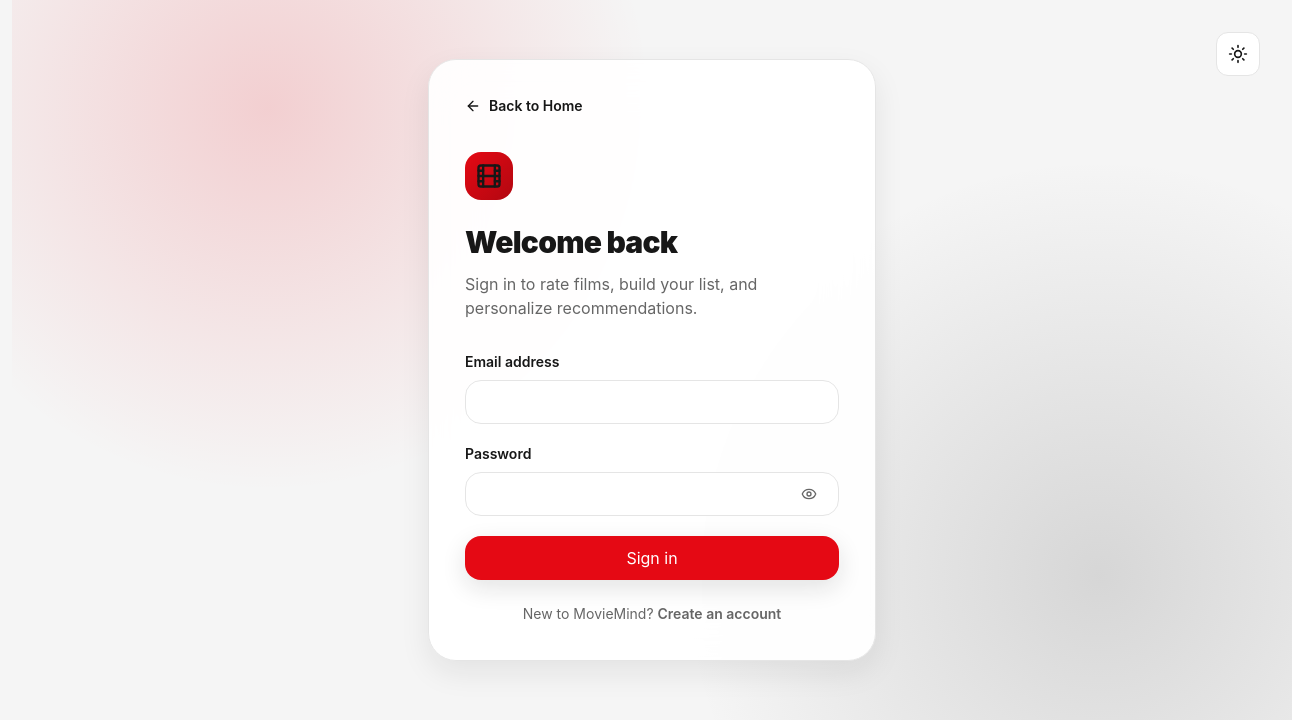
Scenario: AuthPage › prevents duplicate submissions while a login request is pending
Type "viewer@example.com" into the field labelled "Email address" at (652, 402), box [465,380,839,424]
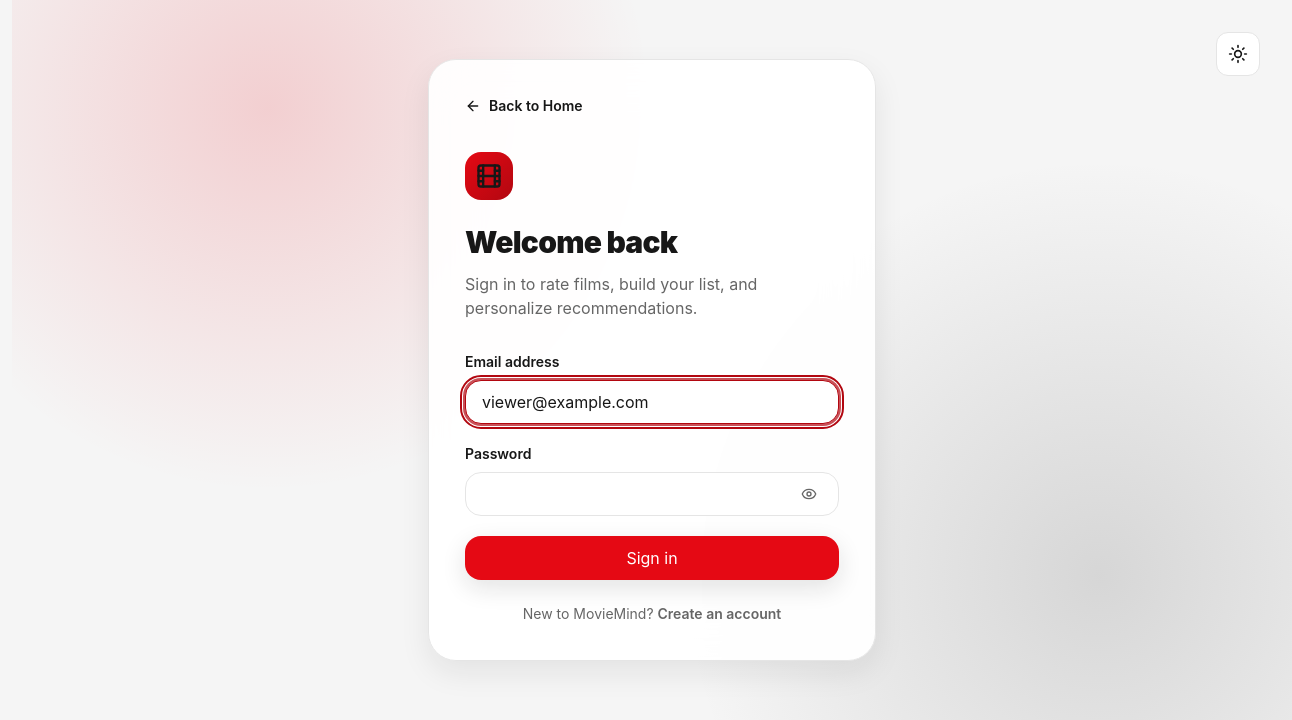
Type "correct-horse" into the password field labelled "Password" at (652, 494), box [465,472,839,516]
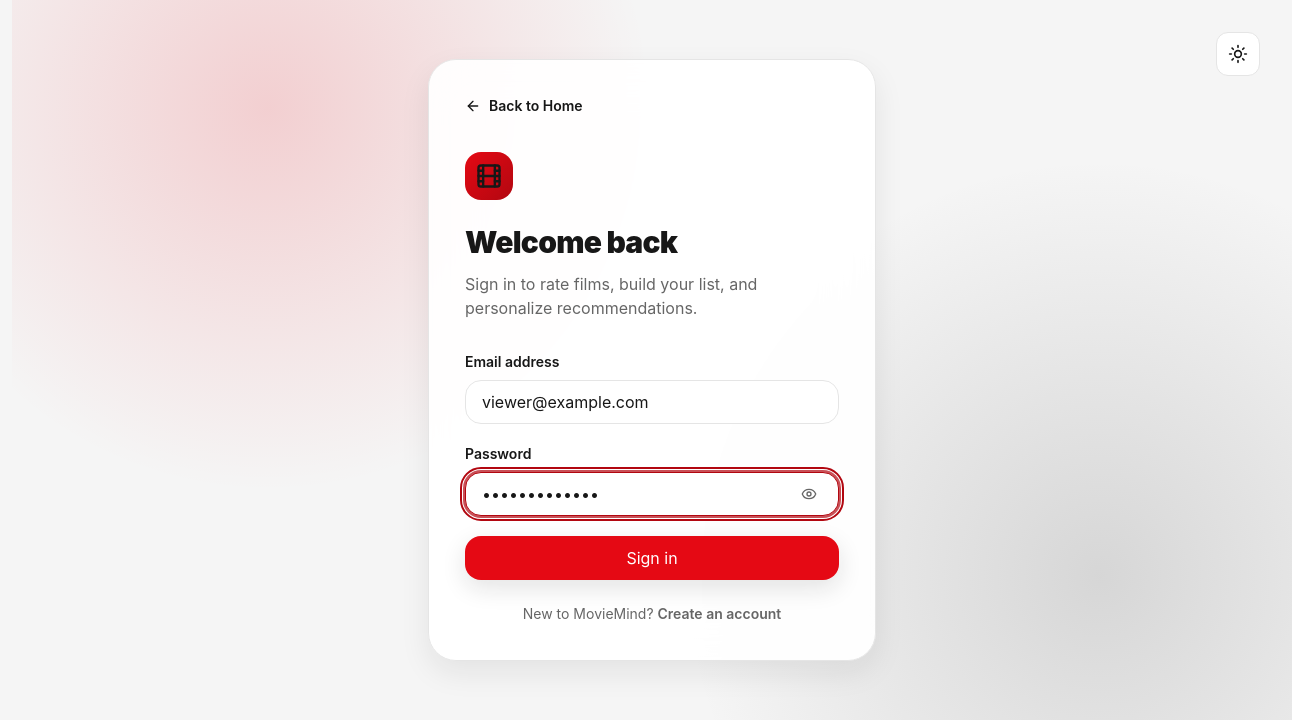
Click the button "Sign in" at (652, 558), box [465,536,839,580]
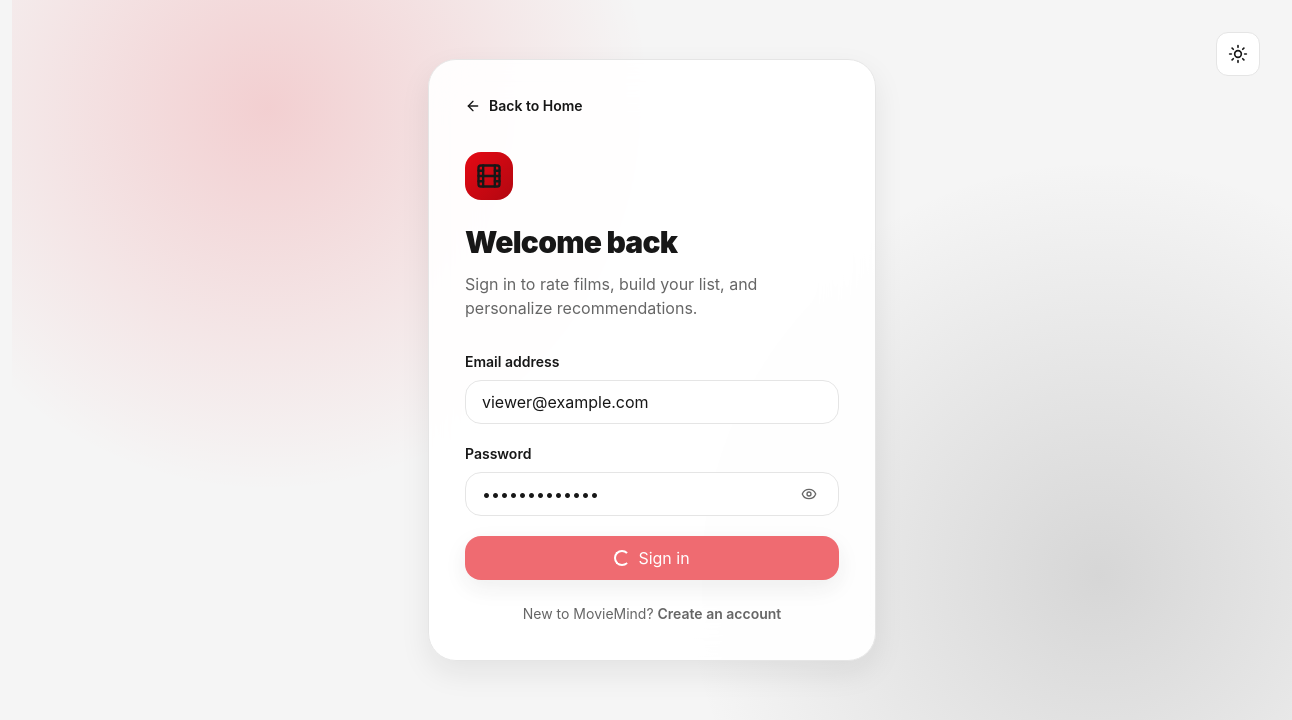
expect the button "Sign in" is disabled: met
Click the button "Sign in" at (652, 558), box [465,536,839,580]
(page scrolled)
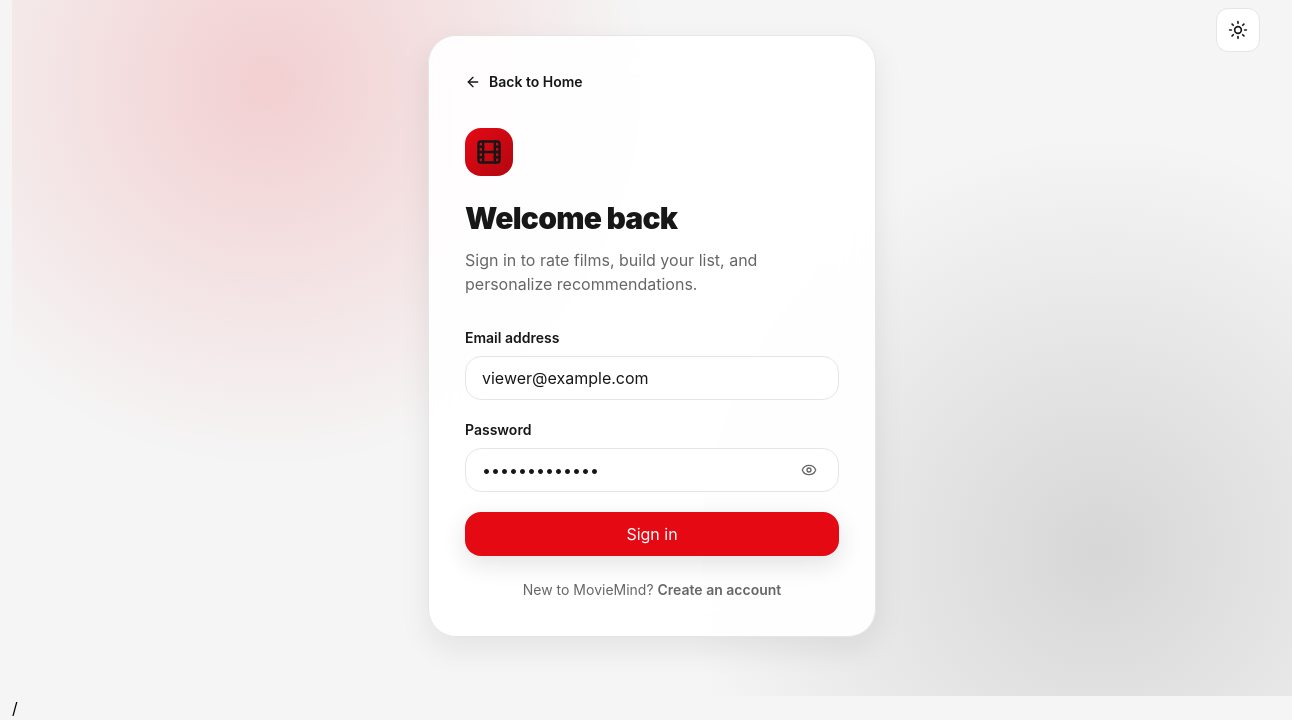
expect the text with test id "location" reads "/": met, box [12,698,18,718]
